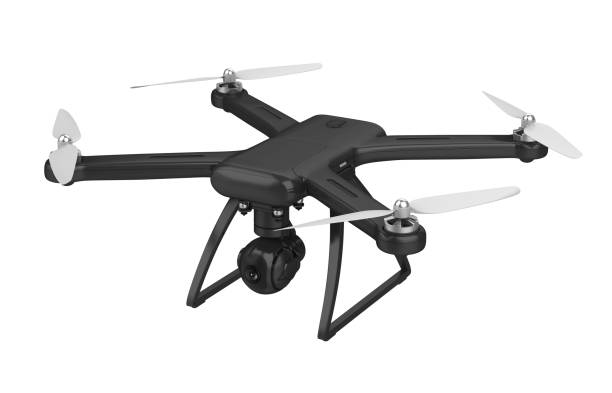Drone: (37, 57, 583, 346)
